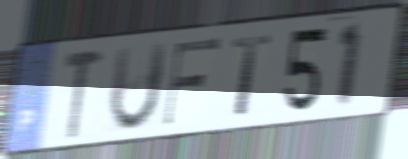1: (334, 21, 364, 111)
5: (282, 27, 328, 115)
F: (160, 35, 224, 129)
T: (62, 48, 106, 142), (230, 32, 275, 119)
U: (107, 39, 170, 136)
